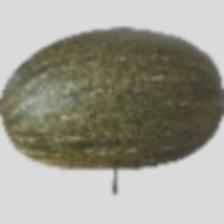honeydew: (29, 19, 224, 181)
